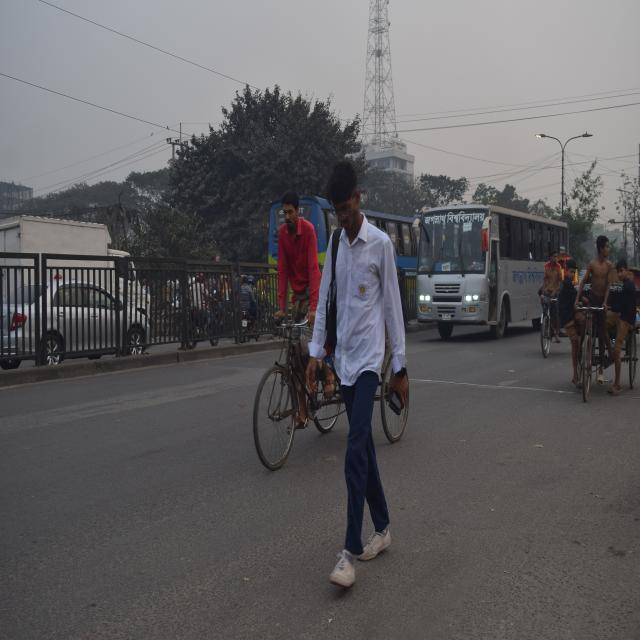bus: (409, 171, 579, 347), (265, 182, 425, 338)
car: (0, 261, 153, 376)
pickup-van: (0, 205, 161, 330)
